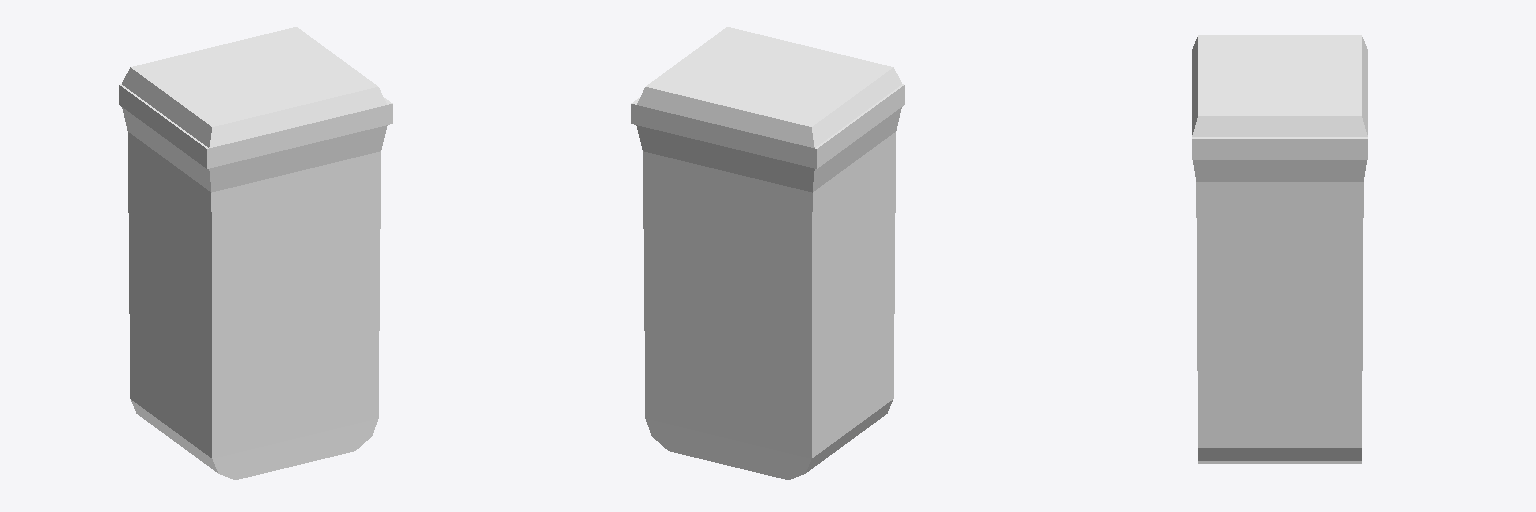
The model's file is wastebin.obj.
The picture shows the model from 3 angles: view 1: azimuth 30°, elevation 25°; view 2: azimuth 150°, elevation 25°; view 3: azimuth 270°, elevation 25°; orthographic projection.
Parts seen in each view (by area): view 1: def_surf_mat; view 2: def_surf_mat; view 3: def_surf_mat.
Boxes of the visible parts, x1=… form: def_surf_mat: x1=119, y1=27, x2=392, y2=479; def_surf_mat: x1=631, y1=27, x2=904, y2=479; def_surf_mat: x1=1192, y1=35, x2=1367, y2=463.
Size of the model in its own units: 28.84 by 53.21 by 23.63.